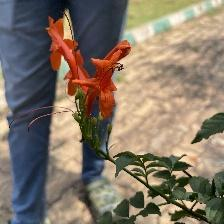honeysuckle: (88, 37, 136, 127)
